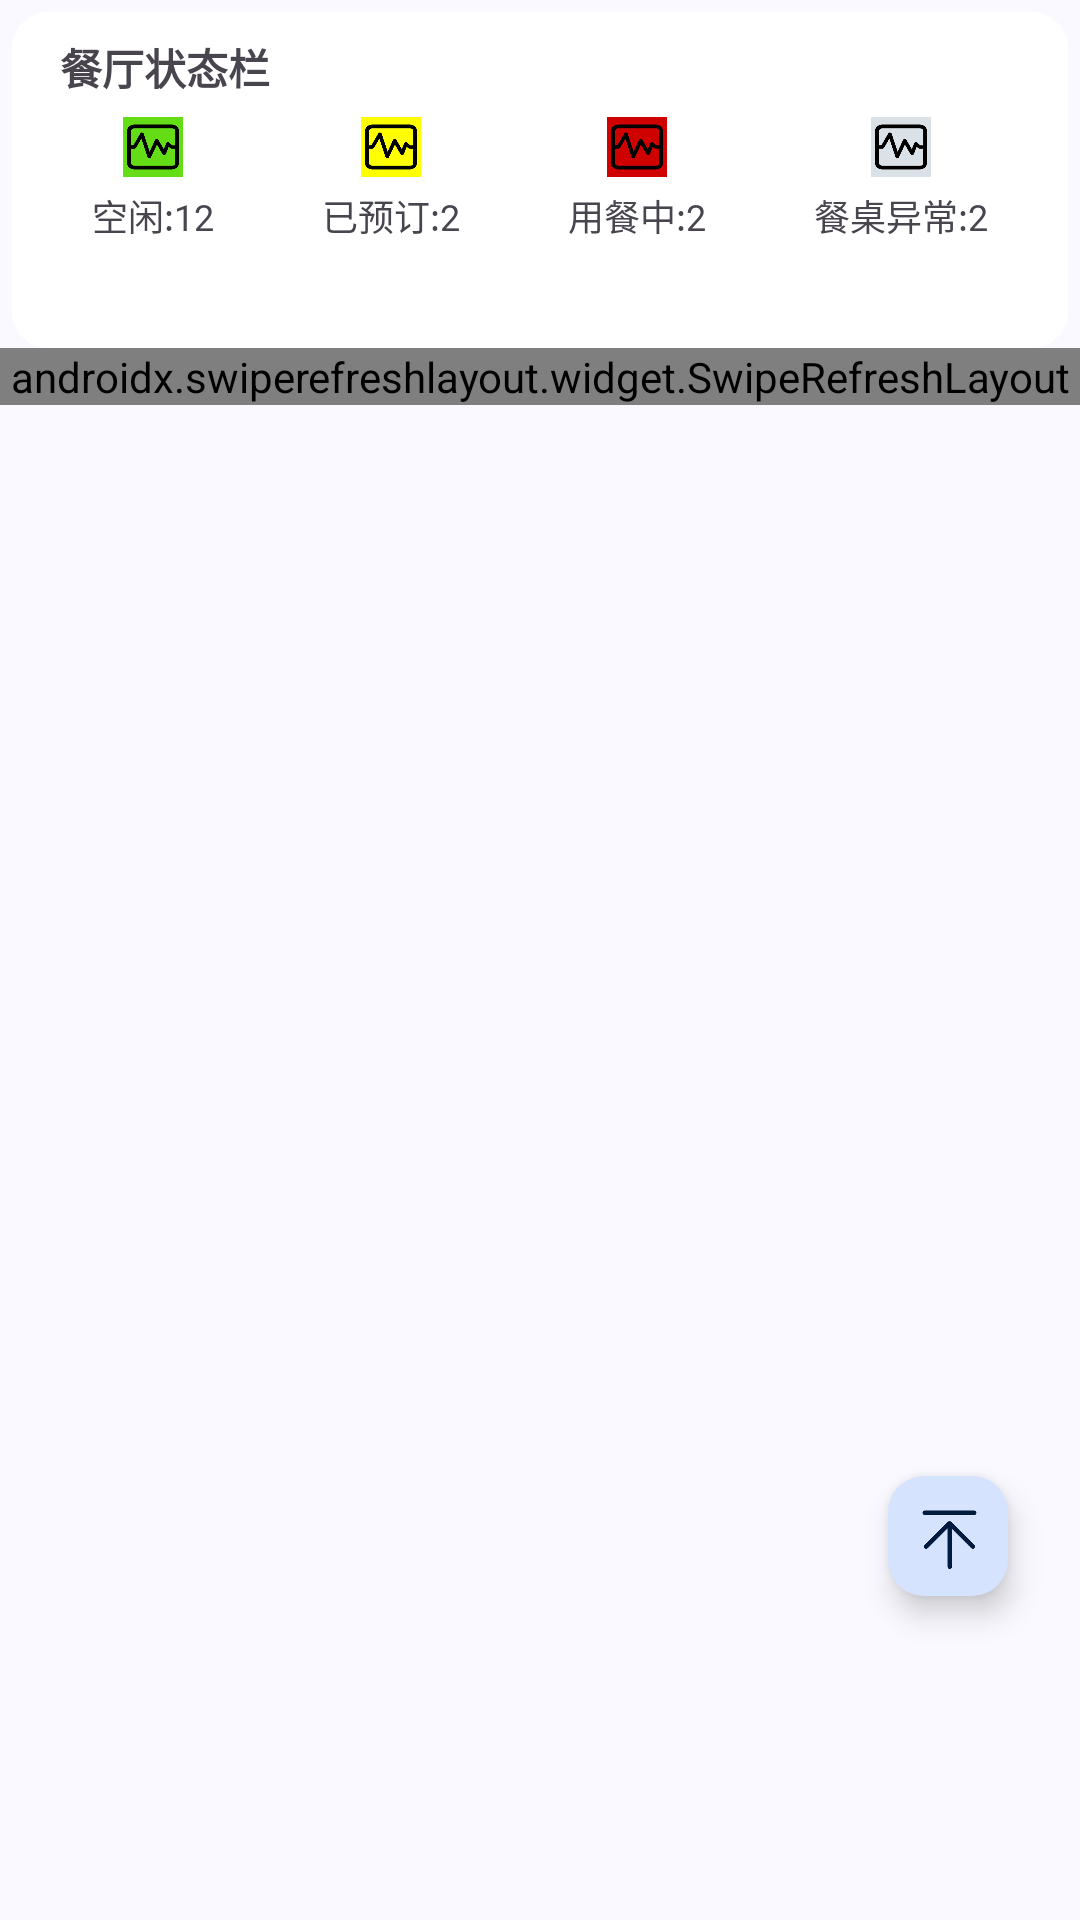

Where to tap for icons on this 1080 x 1920 app screen, as (x=x, y=y):
top: (x=949, y=1542)
